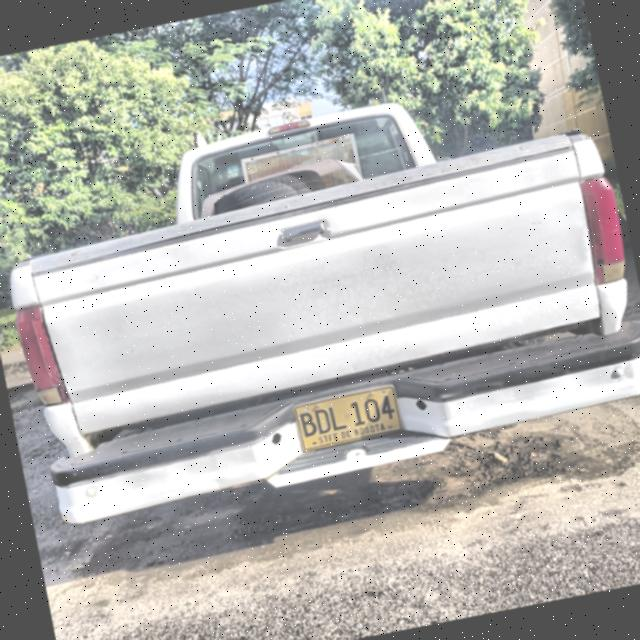plate: (295, 386, 401, 450)
